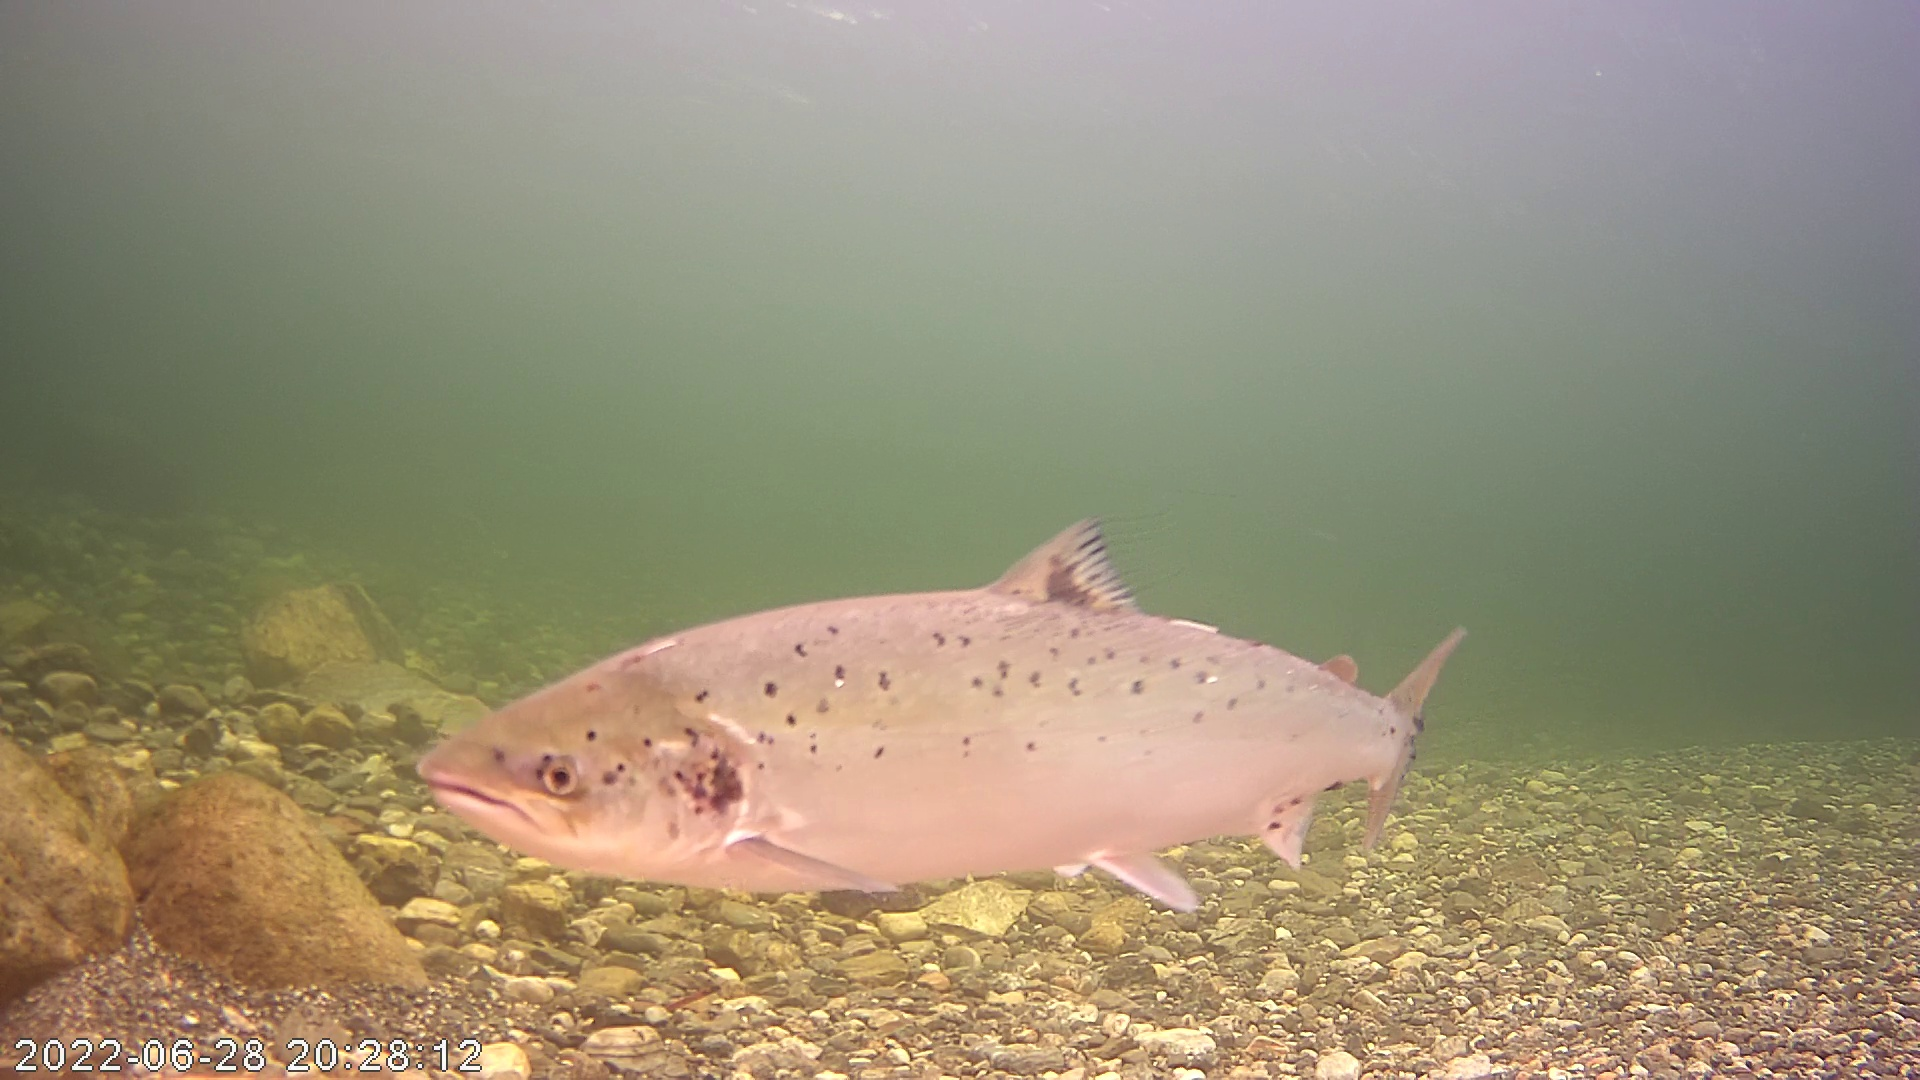salmon: (396, 498, 1451, 905)
